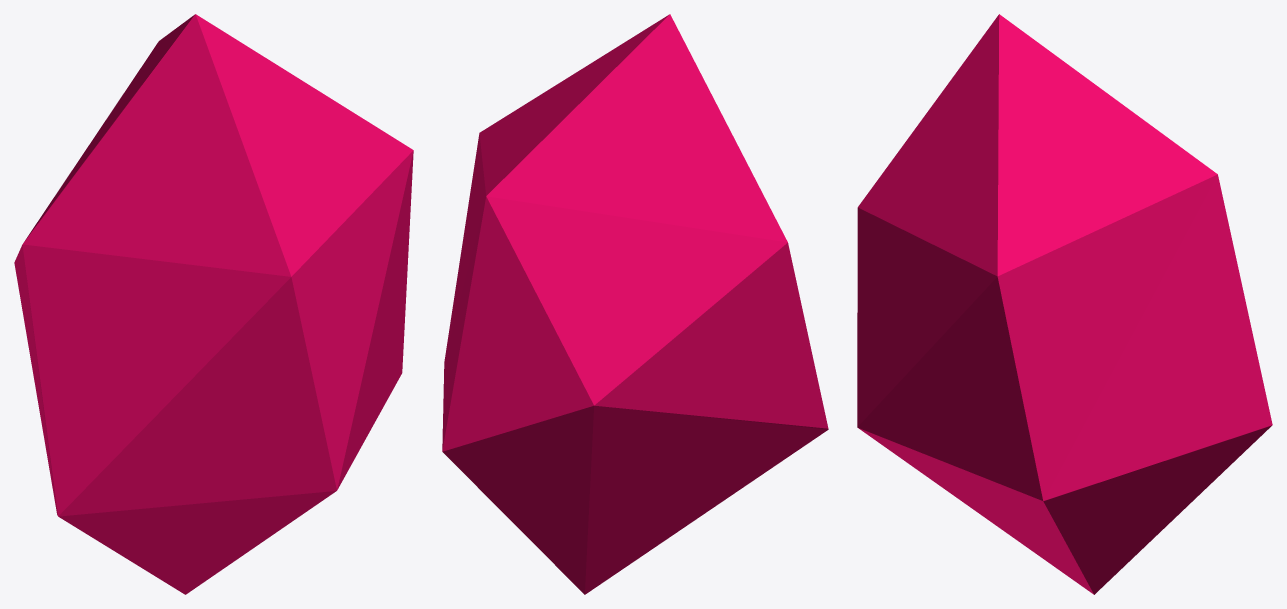
Rendered from gem2.fbx.
3 views of the same model, side by side, from view 1: azimuth 30°, elevation 25°; view 2: azimuth 150°, elevation 25°; view 3: azimuth 270°, elevation 25° (orthographic). The views are drawn at different scales.
Visible parts, largest first — view 1: Icosphere; view 2: Icosphere; view 3: Icosphere.
Boxes of the visible parts, <box> form: Icosphere: <box>14,14,413,594</box>; Icosphere: <box>442,14,828,594</box>; Icosphere: <box>857,14,1272,594</box>.
Size of the model in its own units: 192 by 296 by 198.
